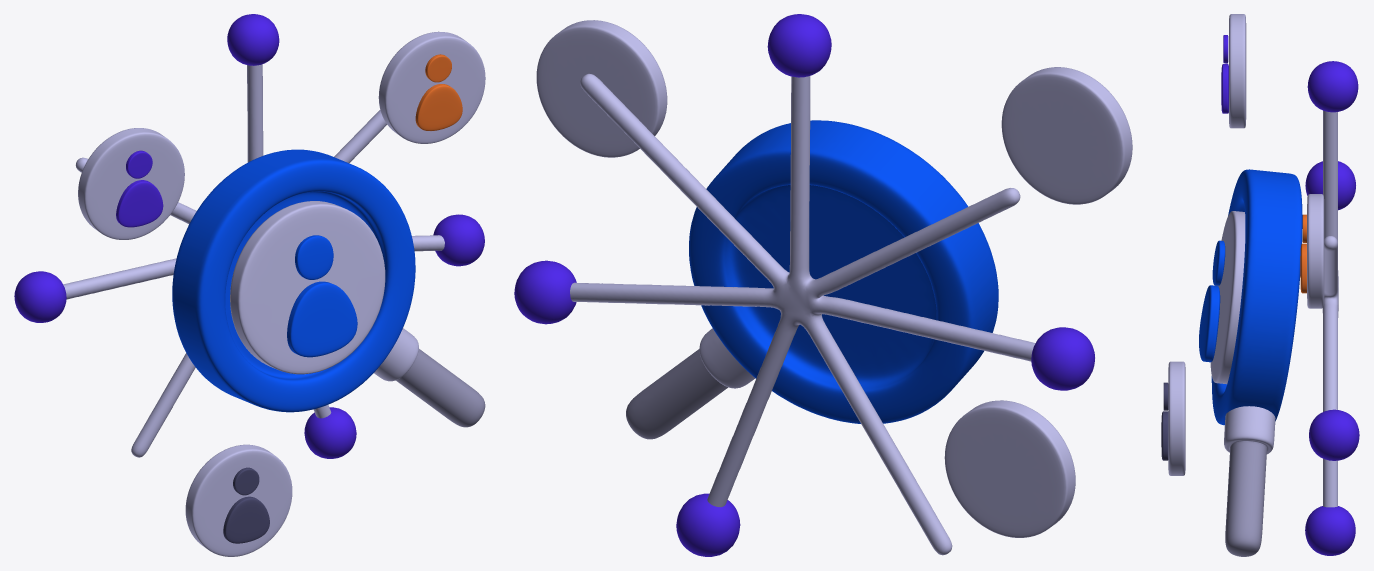
3 renders of one model, left to right at view 1: azimuth 30°, elevation 25°; view 2: azimuth 150°, elevation 25°; view 3: azimuth 270°, elevation 25°, orthographic. The views are drawn at different scales.
Parts seen in each view (by area): view 1: Cylinder.002, Cylinder.003, Vert.023, Cylinder.006, Cylinder.005, Cylinder.004, Cube.072, Cube.062, Cube.086, Cube.085, Cube.087, Cube.089 (+7 smaller); view 2: Cylinder.002, Vert.023, Cylinder.004, Cylinder.006, Cylinder.005, Cube.072, Cube.085, Cube.086, Cube.089, Cube.087; view 3: Cylinder.002, Cube.072, Vert.023, Cylinder.003, Cube.085, Cube.089, Cube.087, Cylinder.006, Cylinder.005, Cylinder.004, Cube.062, Cube.086 (+4 smaller).
Part boxes in pixels (left/top/right/bottom): Cylinder.002: left=172, top=149, right=415, bottom=412; Cylinder.003: left=230, top=201, right=385, bottom=374; Vert.023: left=63, top=64, right=444, bottom=457; Cylinder.006: left=185, top=444, right=292, bottom=556; Cylinder.005: left=378, top=31, right=485, bottom=143; Cylinder.004: left=78, top=128, right=184, bottom=239; Cube.072: left=374, top=328, right=485, bottom=427; Cube.062: left=287, top=281, right=357, bottom=357; Cube.086: left=14, top=271, right=66, bottom=322; Cube.085: left=227, top=14, right=279, bottom=65; Cube.087: left=304, top=407, right=356, bottom=458; Cube.089: left=433, top=214, right=484, bottom=266; Cylinder.002: left=689, top=120, right=998, bottom=423; Vert.023: left=570, top=73, right=1035, bottom=555; Cylinder.004: left=1001, top=67, right=1132, bottom=204; Cylinder.006: left=944, top=400, right=1075, bottom=537; Cylinder.005: left=536, top=20, right=667, bottom=157; Cube.072: left=626, top=328, right=755, bottom=439; Cube.085: left=767, top=14, right=831, bottom=77; Cube.086: left=1031, top=327, right=1094, bottom=390; Cube.089: left=514, top=260, right=576, bottom=324; Cube.087: left=676, top=493, right=740, bottom=556; Cylinder.002: left=1211, top=169, right=1302, bottom=425; Cube.072: left=1224, top=406, right=1275, bottom=556; Vert.023: left=1322, top=110, right=1338, bottom=507; Cylinder.003: left=1210, top=211, right=1245, bottom=384; Cube.085: left=1307, top=61, right=1358, bottom=112; Cube.089: left=1309, top=409, right=1359, bottom=460; Cube.087: left=1305, top=506, right=1355, bottom=555; Cylinder.006: left=1168, top=361, right=1185, bottom=475; Cylinder.005: left=1307, top=194, right=1324, bottom=308; Cylinder.004: left=1229, top=14, right=1246, bottom=128; Cube.062: left=1199, top=285, right=1220, bottom=362; Cube.086: left=1305, top=161, right=1355, bottom=210.
Size of the model in its own units: 1.04 by 0.9764 by 0.3872.
